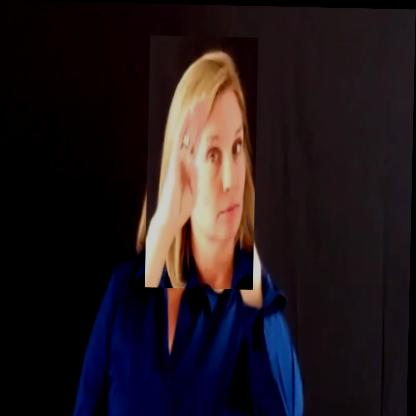Hello: (146, 35, 258, 289)
